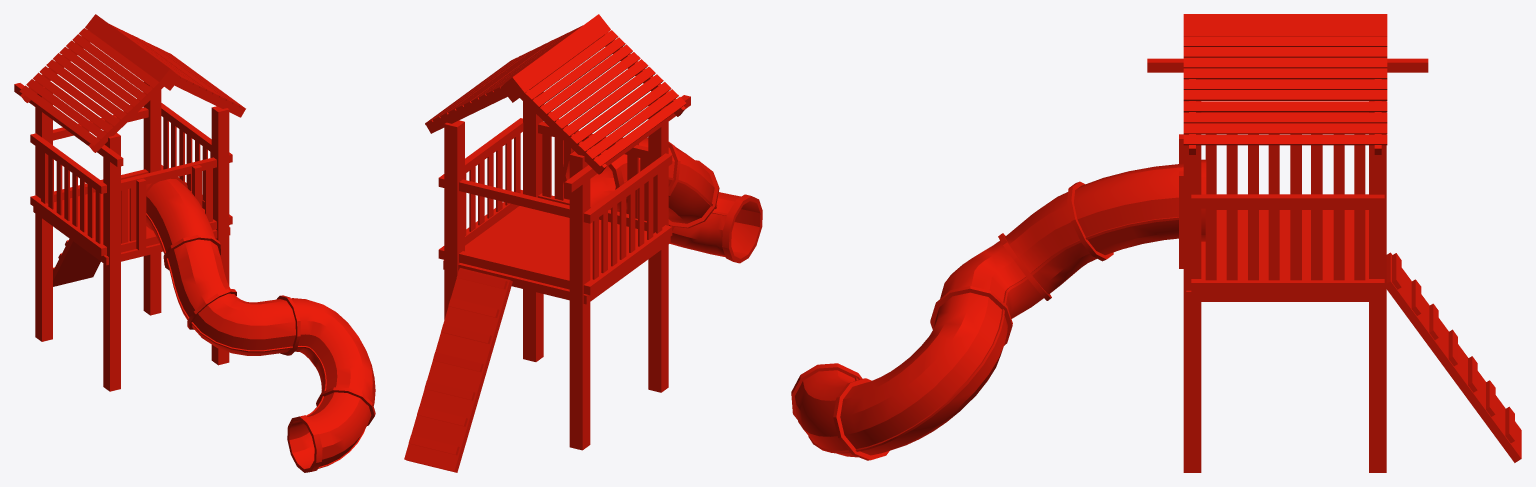
Rendered from Recreation_4.fbx.
3 renders of one model, left to right at view 1: azimuth 30°, elevation 25°; view 2: azimuth 150°, elevation 25°; view 3: azimuth 270°, elevation 25°, orthographic. The views are drawn at different scales.
Visible parts, largest first — view 1: Recreation_4; view 2: Recreation_4; view 3: Recreation_4.
Part boxes in pixels (box(x1,y1,x2,y2)): Recreation_4: box(14, 14, 375, 472); Recreation_4: box(404, 14, 762, 472); Recreation_4: box(791, 14, 1521, 472).
Size of the model in its own units: 3022 by 5034 by 7936.
